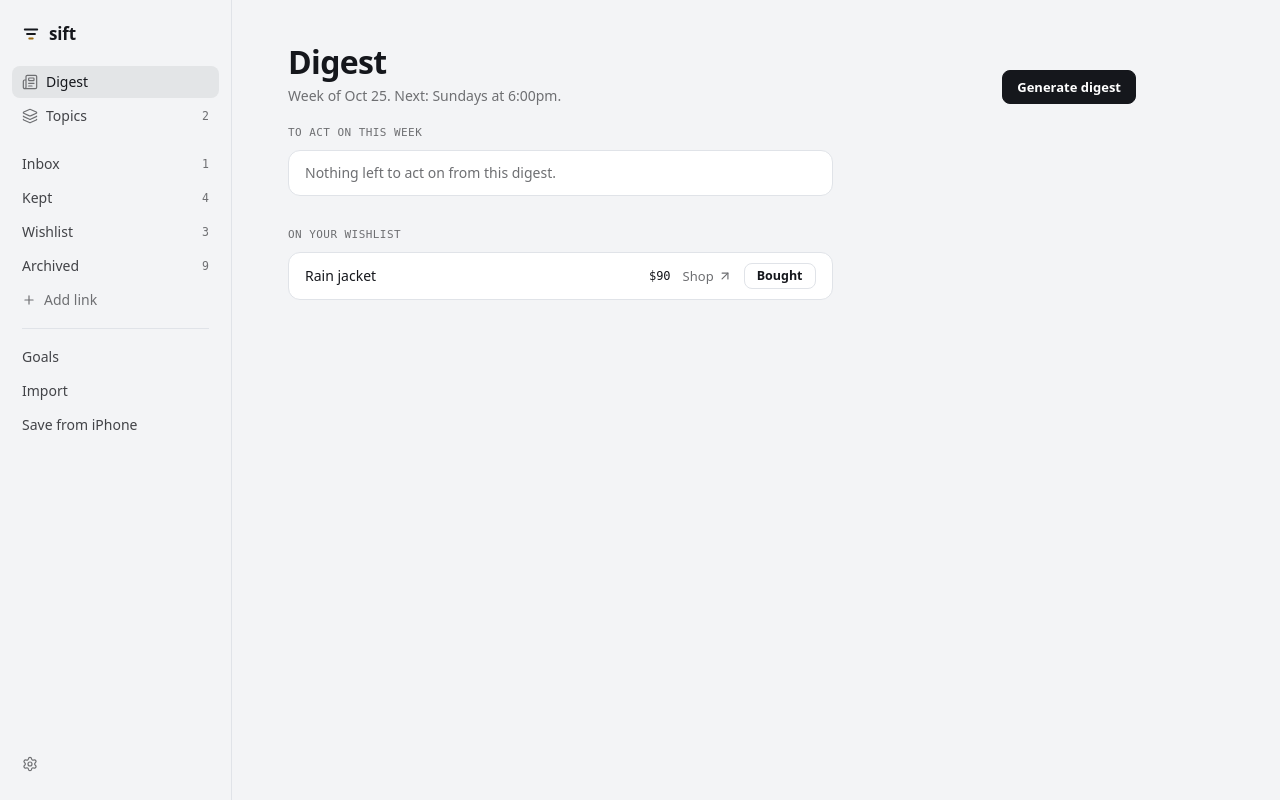
it: bought › shows the digest's wishlist picks with their price, link and Bought
Check: the text "$90" is shown, box [649,268,671,284]
Check: the link with aria-label "Open the link for Rain jacket" is shown, box [683,266,732,286]
Click the button with aria-label "Bought: Rain jacket" at (780, 276), box [744,263,816,289]
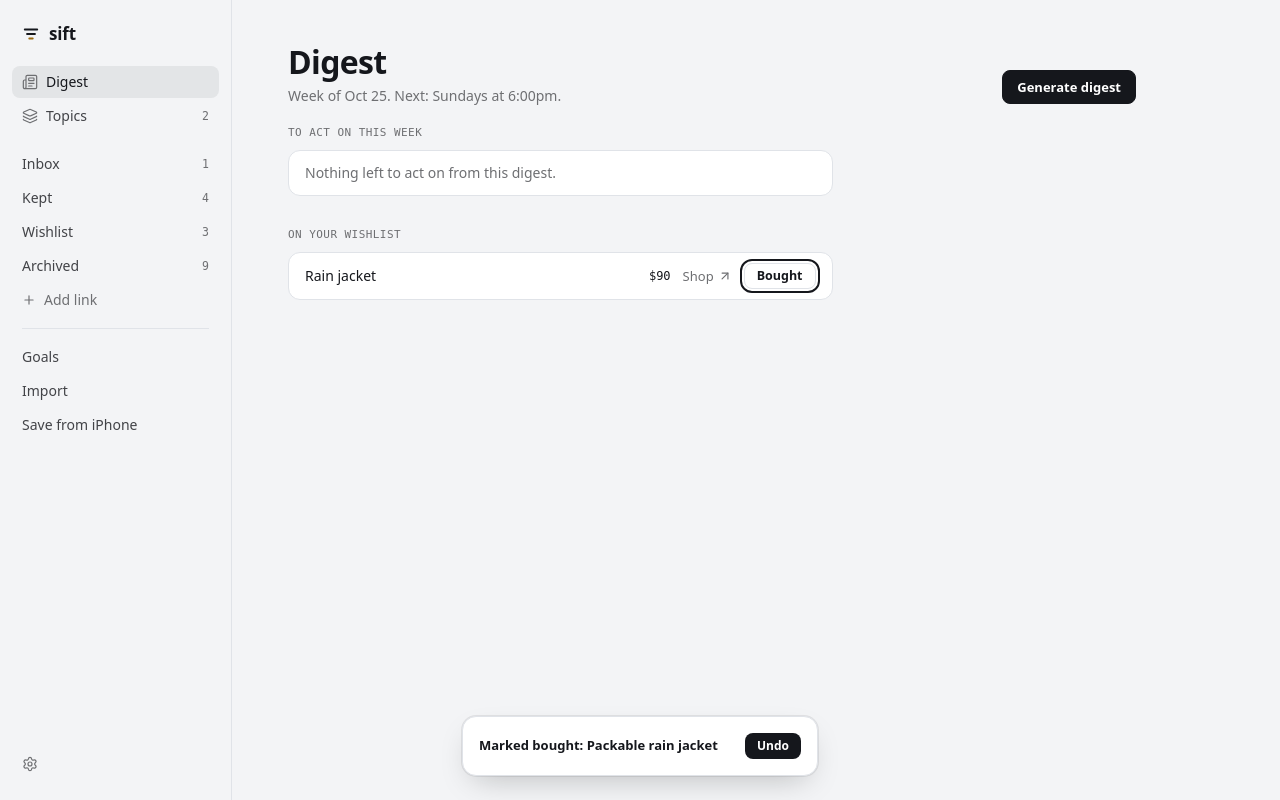
Check: the text "Marked bought: Packable rain jacket" is shown, box [479,736,718,756]
